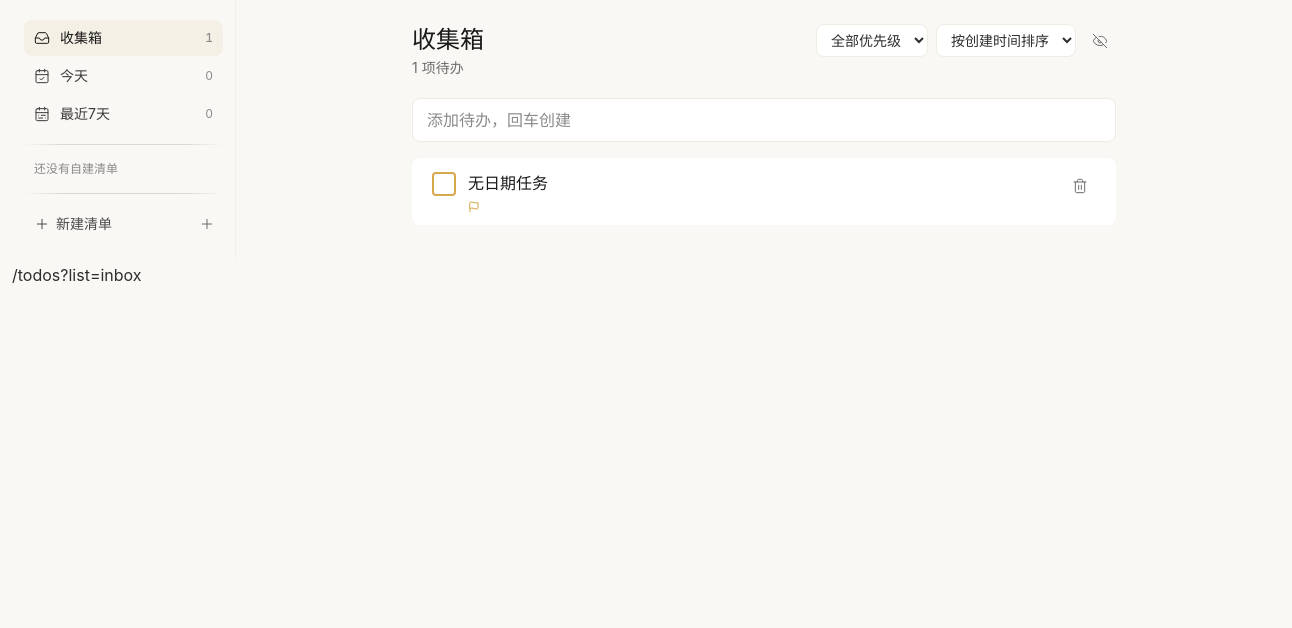
Test case: Todos 页 · 三栏重构（B2-T1） › ?task= 选中态同步（D9，B2-T2） › 切换视图：选中任务不属于新视图 → 清选中与 task 参数
Click the button "无日期任务": (508, 183) [468,170,1052,197]
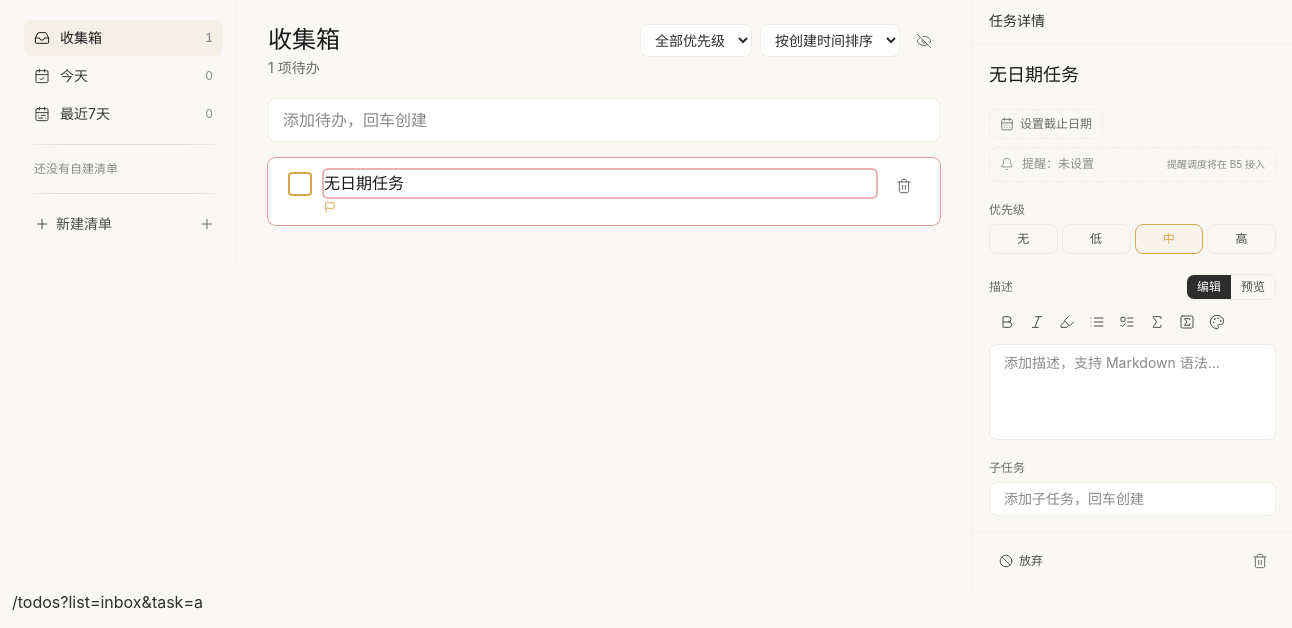
Now the text with test id "location-probe" shows "task=a", box [60,592,203,612]
Now the element "任务详情" is shown, box [972,0,1291,588]
Click the button with aria-label "今天（0 项待办）": (124, 76) [24,58,223,94]
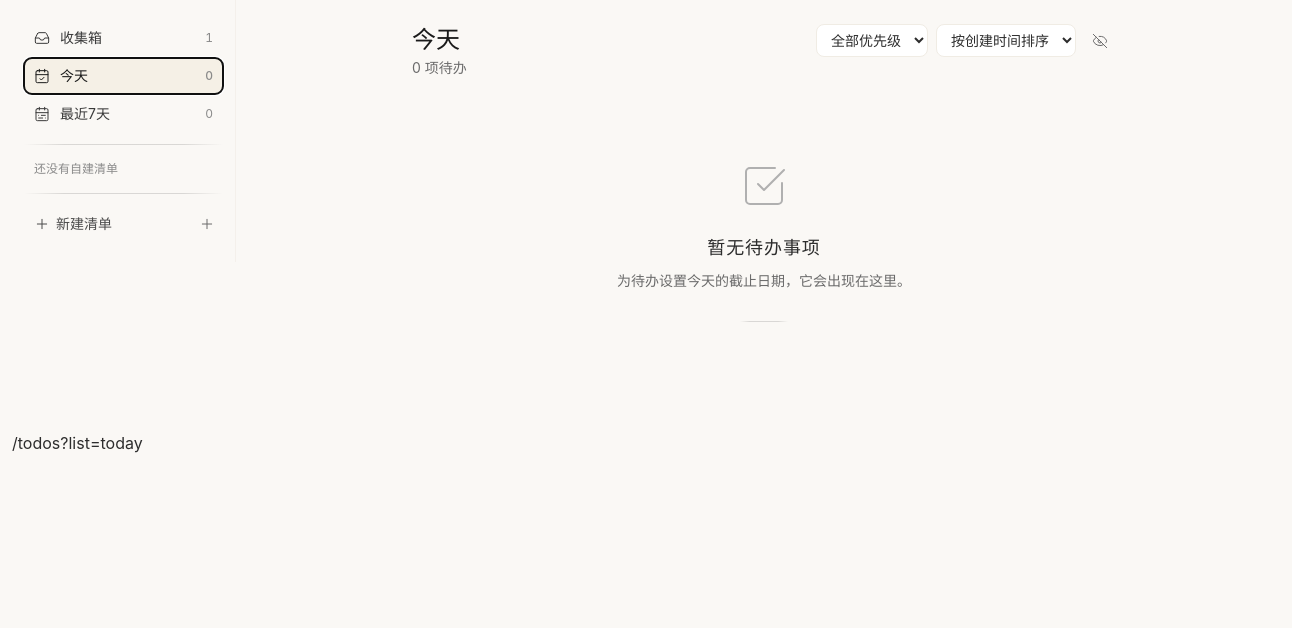
Now the text "任务详情" is gone
Now the text with test id "location-probe" no longer shows "task=", box [12,433,143,453]
